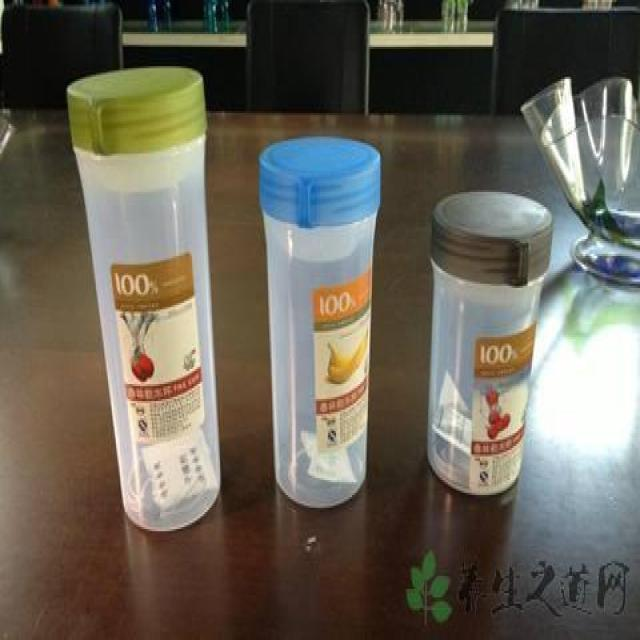plastic: (66, 59, 236, 548), (256, 135, 379, 511), (424, 185, 555, 502)
